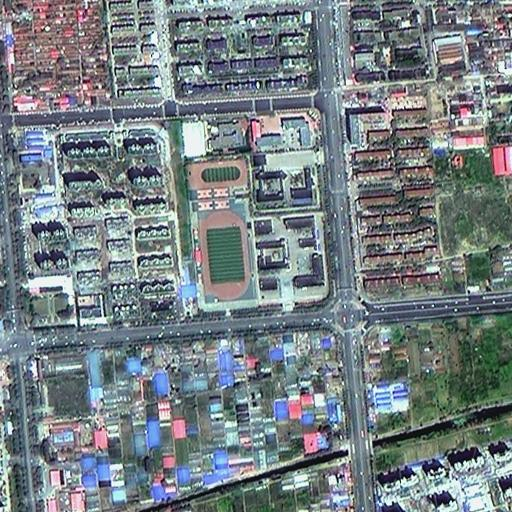school: (192, 211, 329, 306), (181, 149, 323, 208)
